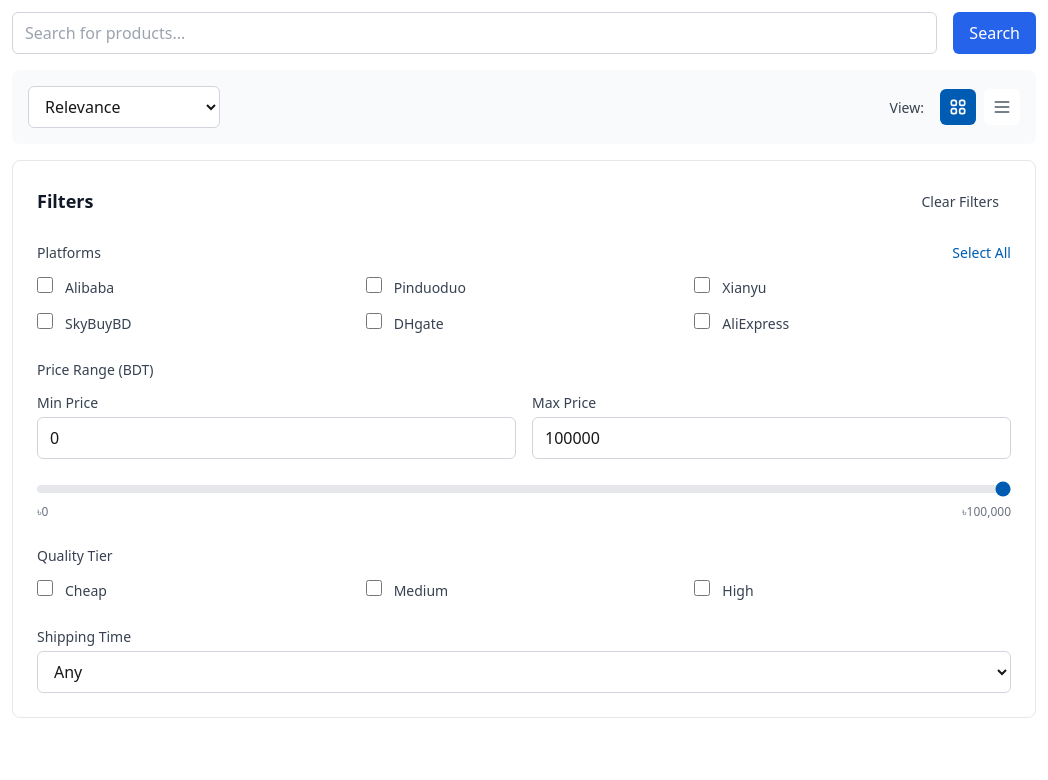
Test: ProductSearchInterface › Platform Filters › should deselect all platforms when Deselect All is clicked
Note: Select all first
Click the button "Select All" at x=982, y=252, box [952,242,1011,263]
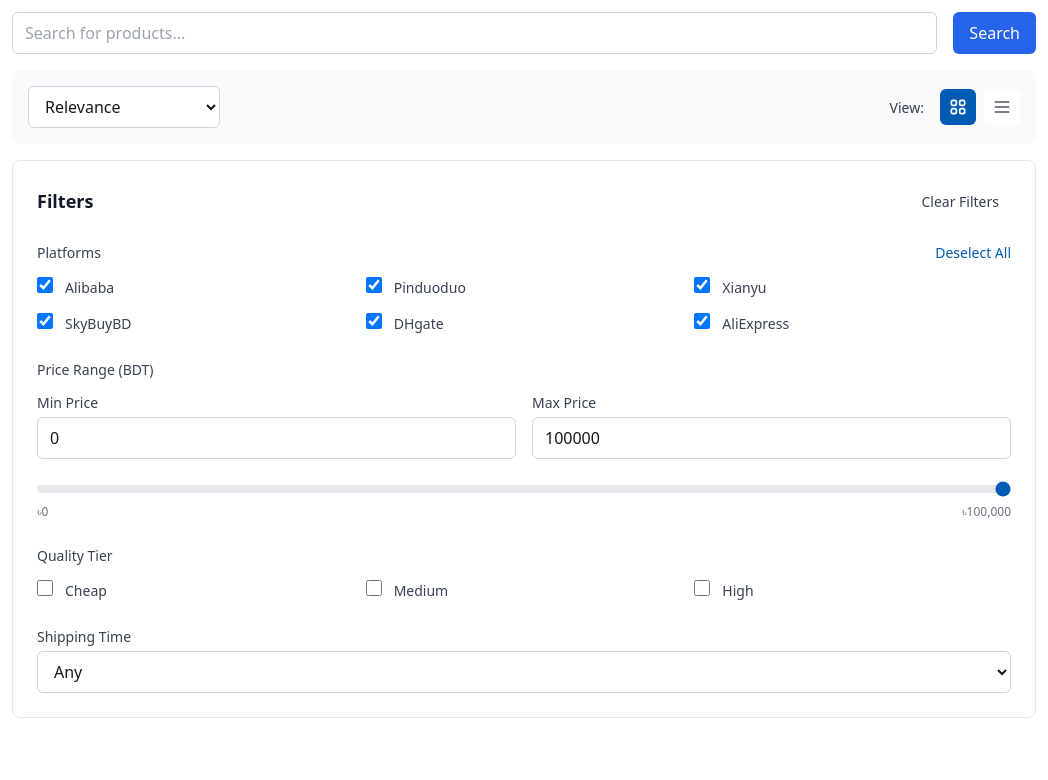
Note: Now deselect all
Click the button "Deselect All" at x=973, y=252, box [935,242,1011,263]
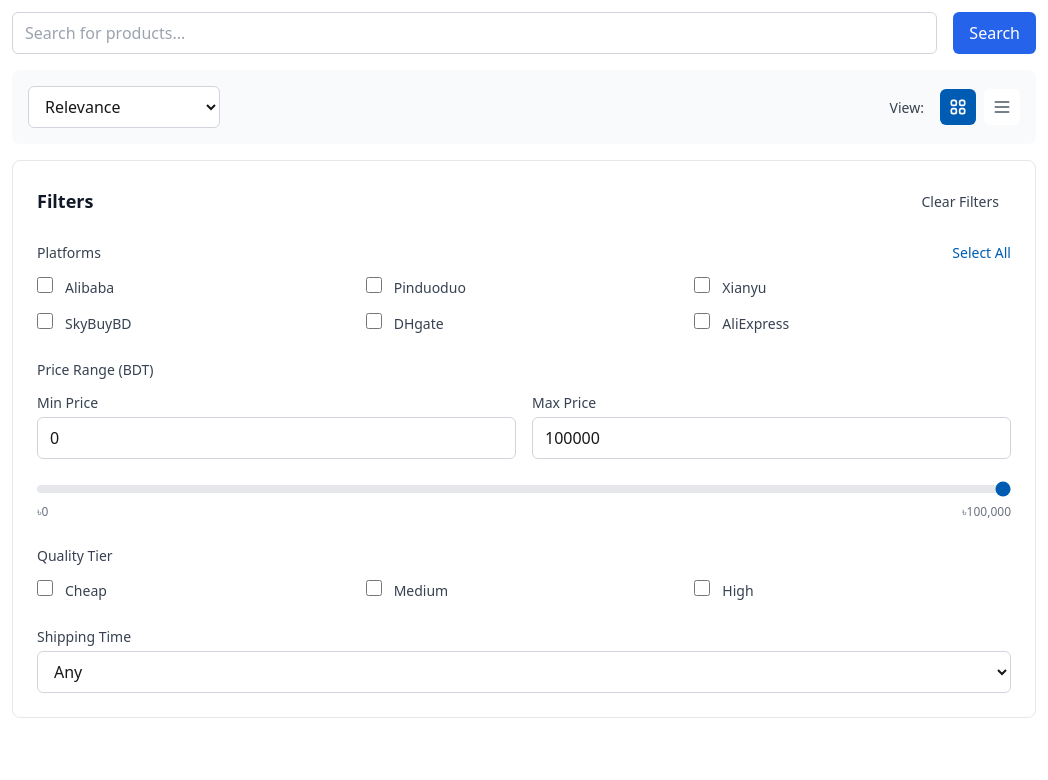
Now the checkbox labelled "Alibaba" is not checked, box [37,277,53,293]
Now the checkbox labelled "Pinduoduo" is not checked, box [366,277,382,293]
